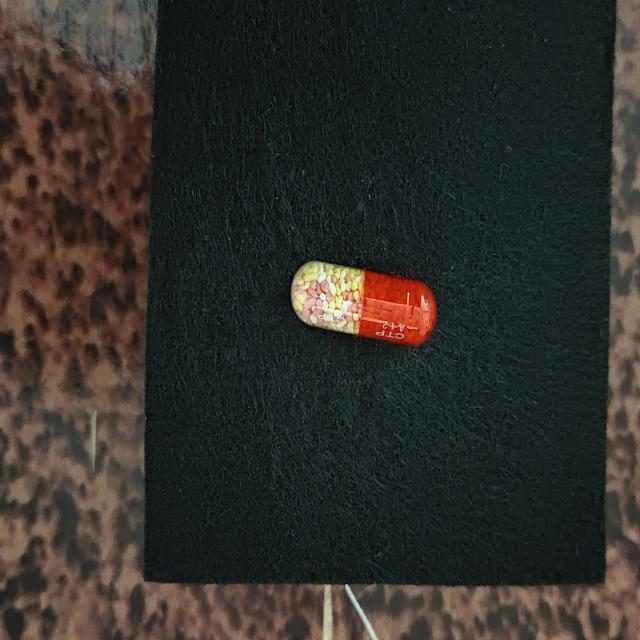Intact Capsule: (291, 261, 437, 345)
